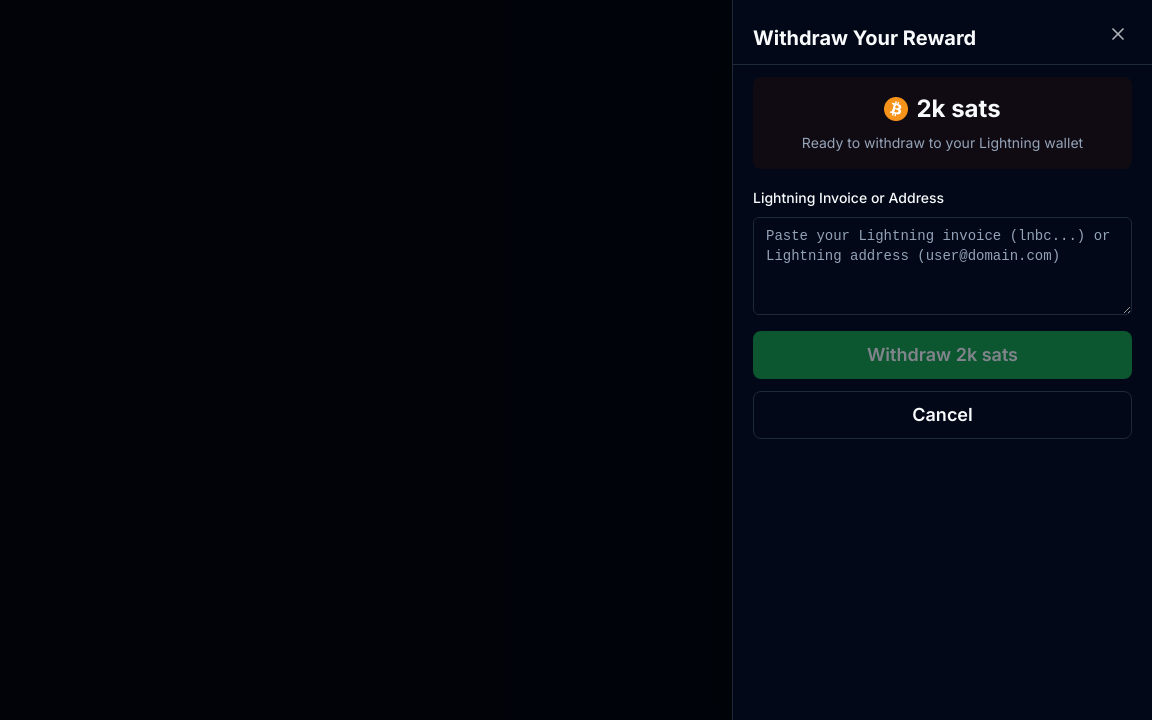
LightningInvoiceModal (withdraw sheet) › stays locked on the success screen until it auto-closes
Later steps or results of the test are not shown.
Replace the text in the text box labelled "Lightning Invoice or Address" with "maria@getalby.com" at [942, 266], box [753, 217, 1132, 315]
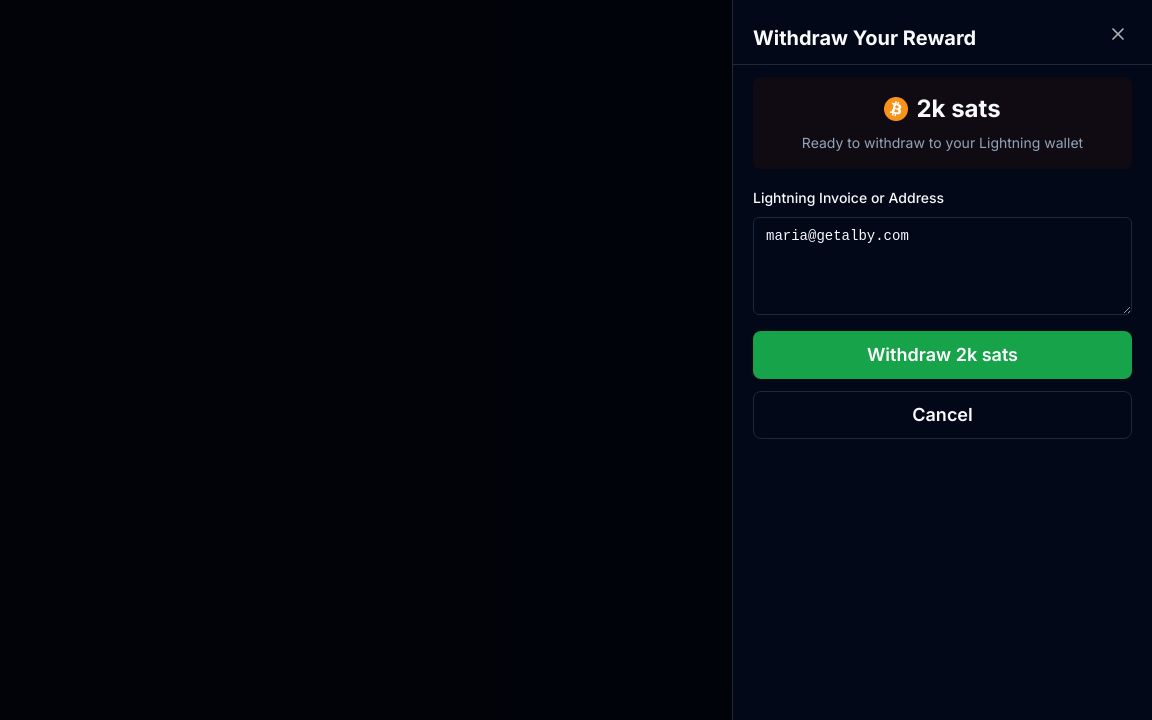
Click the button "Withdraw 2k sats" at [942, 355], box [753, 331, 1132, 379]
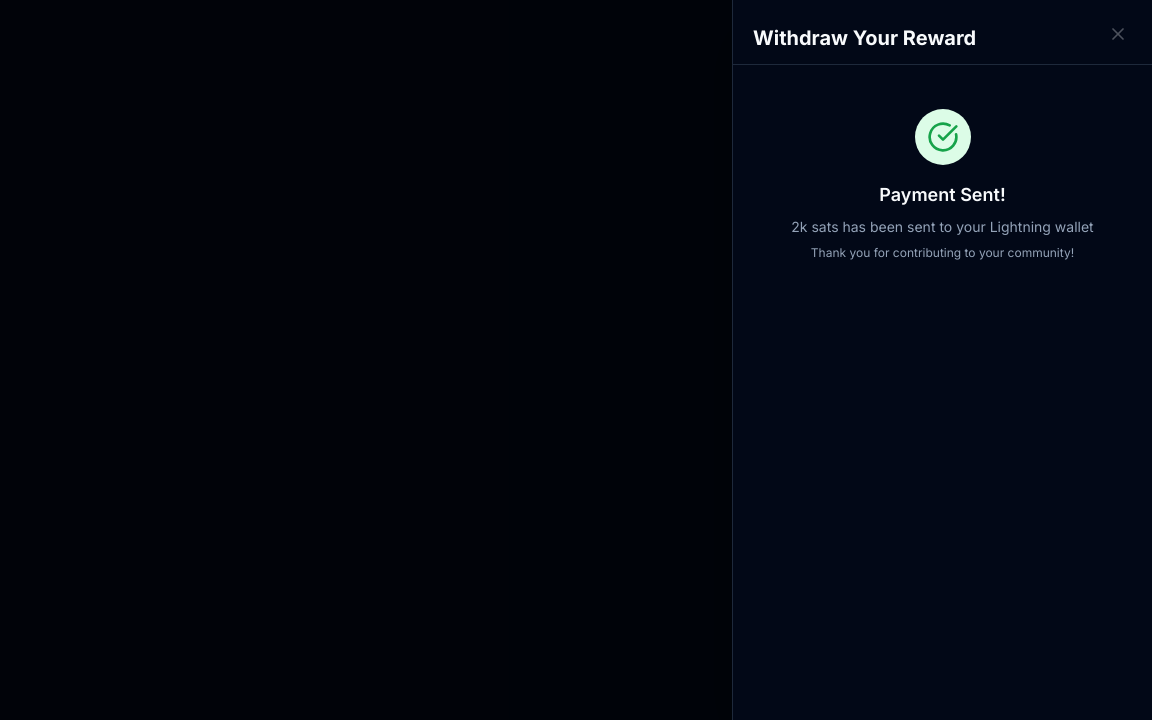
Check: the heading "Payment Sent!" is shown, box [879, 184, 1006, 205]
